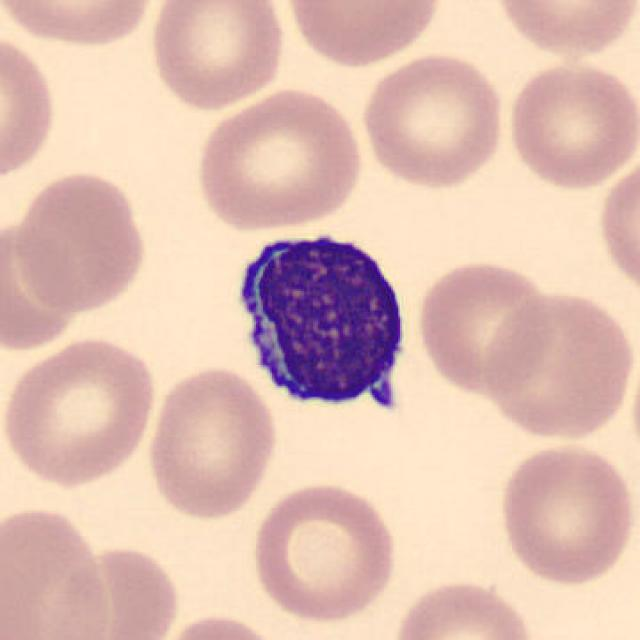Lymphocyte: (220, 215, 422, 427)
RBC: (190, 84, 368, 234), (0, 333, 160, 490), (480, 286, 636, 444), (247, 478, 404, 626), (142, 362, 281, 524), (358, 49, 510, 192), (7, 168, 153, 316), (494, 437, 636, 589), (412, 256, 558, 398), (503, 56, 638, 192), (146, 0, 290, 113), (0, 500, 114, 640), (41, 539, 187, 640), (0, 210, 84, 358), (279, 0, 448, 71), (0, 26, 60, 190), (390, 575, 540, 640), (489, 0, 638, 62), (0, 0, 160, 49), (594, 150, 638, 303), (149, 610, 290, 640)
